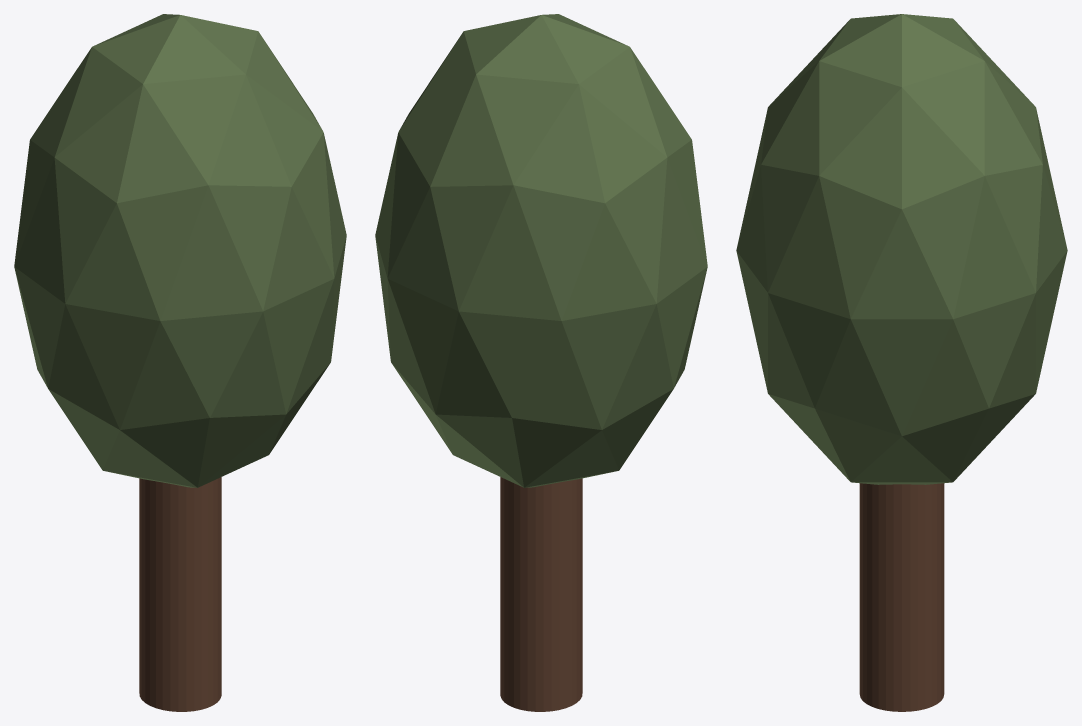
The model's file is tree_2.fbx.
3 renders of one model, left to right at view 1: azimuth 30°, elevation 25°; view 2: azimuth 150°, elevation 25°; view 3: azimuth 270°, elevation 25°, orthographic.
Parts seen in each view (by area): view 1: Icosphere, Cylinder; view 2: Icosphere, Cylinder; view 3: Icosphere, Cylinder.
Boxes of the visible parts, left/top/right/bottom form: Icosphere: left=14, top=14, right=346, bottom=487; Cylinder: left=139, top=477, right=221, bottom=711; Icosphere: left=375, top=14, right=707, bottom=487; Cylinder: left=500, top=477, right=582, bottom=711; Icosphere: left=736, top=14, right=1067, bottom=484; Cylinder: left=859, top=483, right=944, bottom=711.
Bounding box in the file's own units: 310 × 716 × 316.
